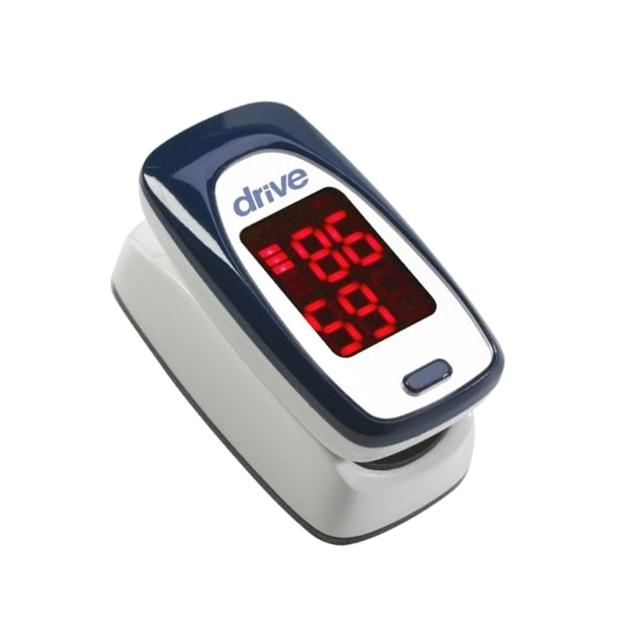oximeter: (70, 82, 508, 560)
